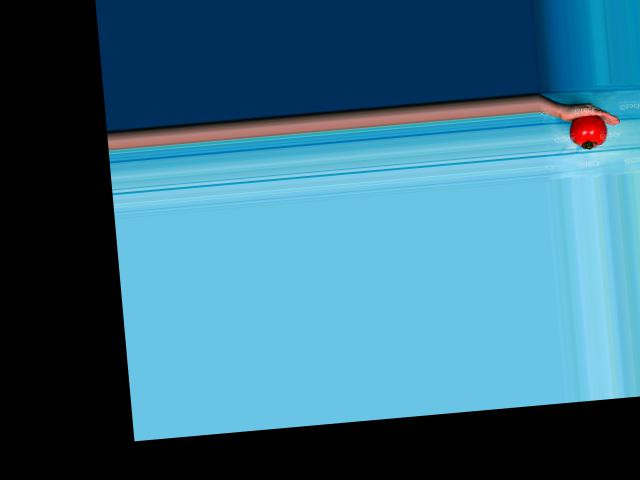tomato: (569, 113, 609, 149)
